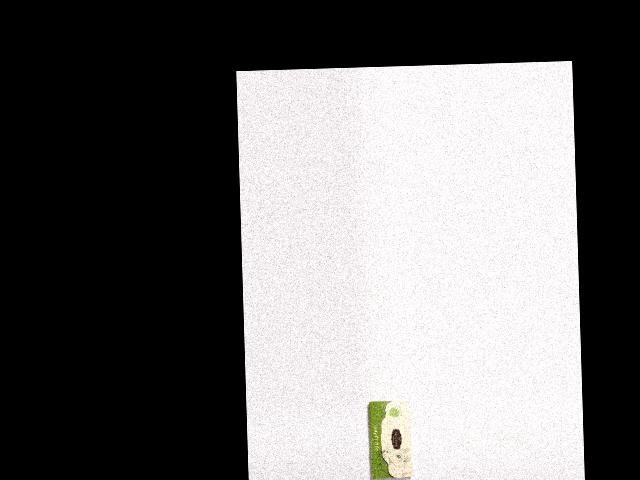chocolate: (368, 399, 414, 480)
